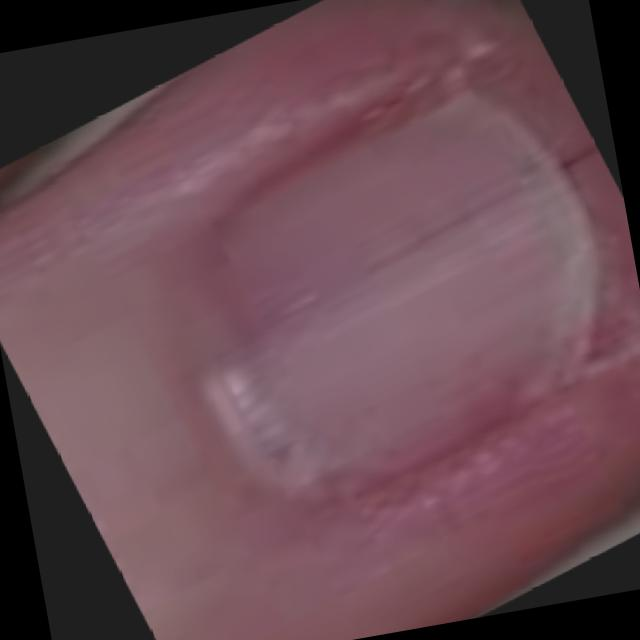Nail: (201, 93, 597, 489)
